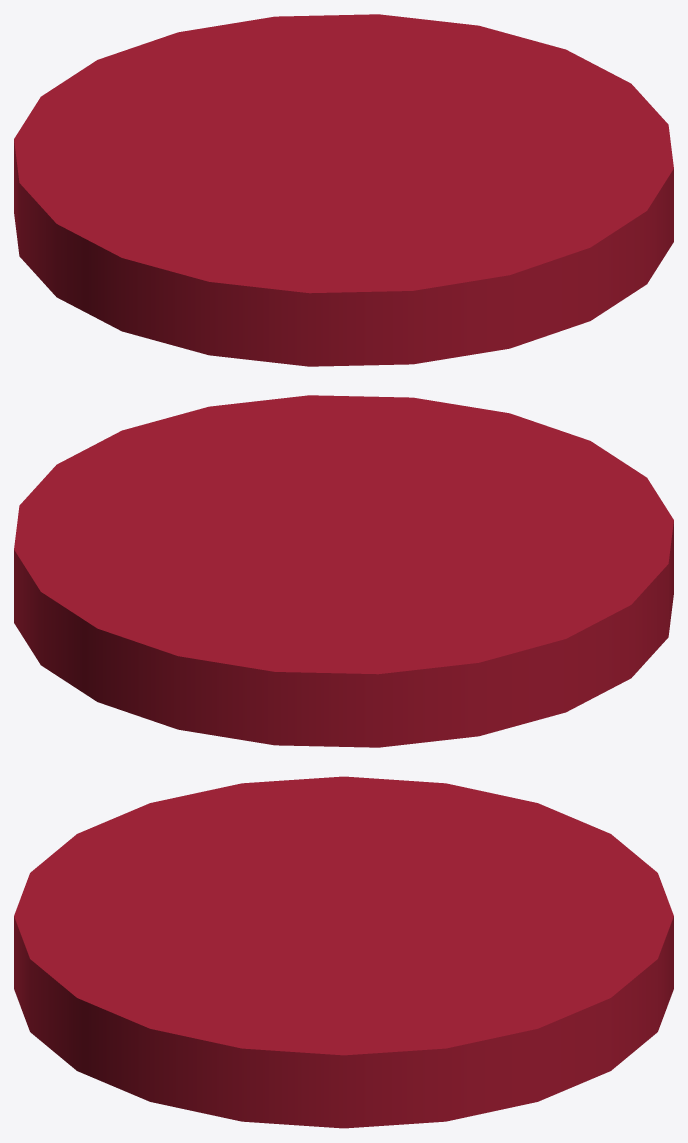
The model's file is TokenRed.fbx.
The picture shows the model from 3 angles, top to bottom: view 1: azimuth 30°, elevation 25°; view 2: azimuth 150°, elevation 25°; view 3: azimuth 270°, elevation 25°; orthographic projection.
Parts seen in each view (by area): view 1: pCylinder1; view 2: pCylinder1; view 3: pCylinder1.
Boxes of the visible parts, bbox=[...] form: pCylinder1: bbox=[14, 14, 673, 366]; pCylinder1: bbox=[14, 395, 673, 747]; pCylinder1: bbox=[14, 776, 673, 1128].
Size of the model in its own units: 2 by 0.2444 by 2.
1 material, 1 textured.
